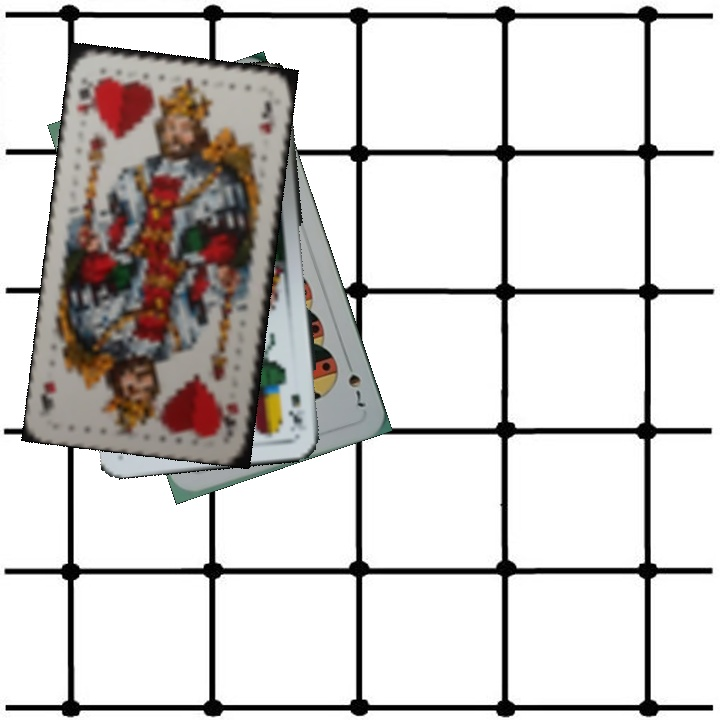EK: (287, 389, 307, 429)
HK: (71, 74, 101, 119), (218, 398, 241, 432)
S7: (342, 355, 369, 413)
